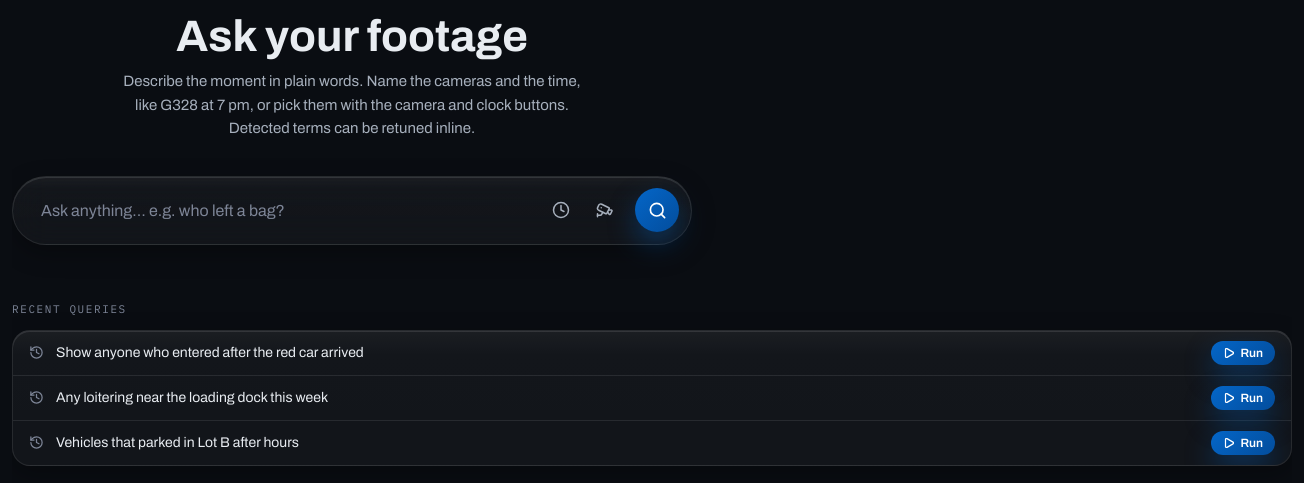
Scenario: Dashboard › copies a recent query into the field without running it
Click the button "Show anyone who entered after the red car arrived".
click(210, 352)  # box [13,331,1291,375]
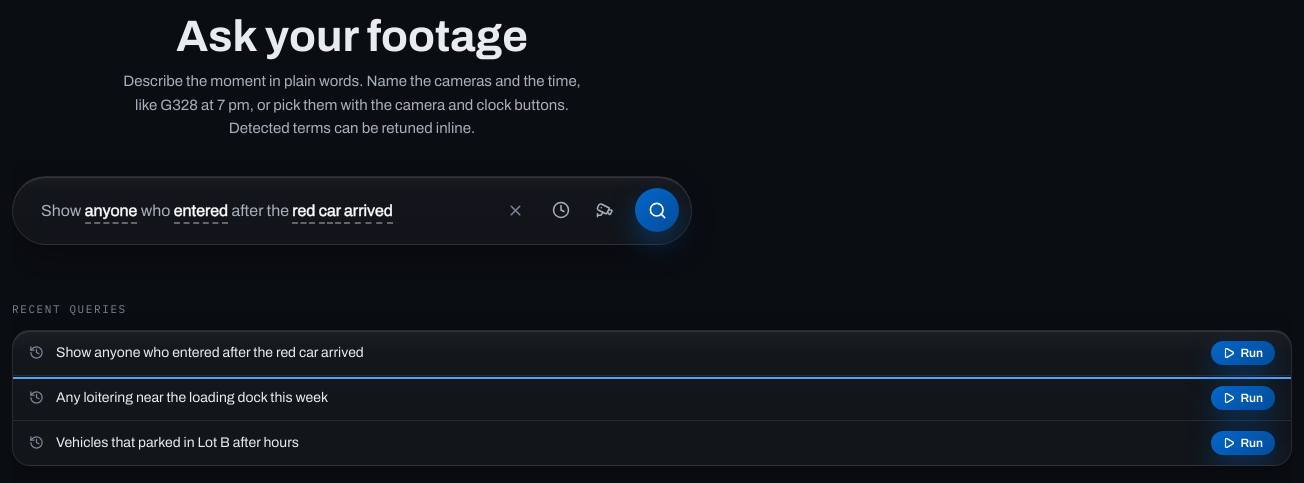
Expected: the text box named "Search the camera network" holds "Show anyone who entered after the red car arrived", [13,177,691,244]
